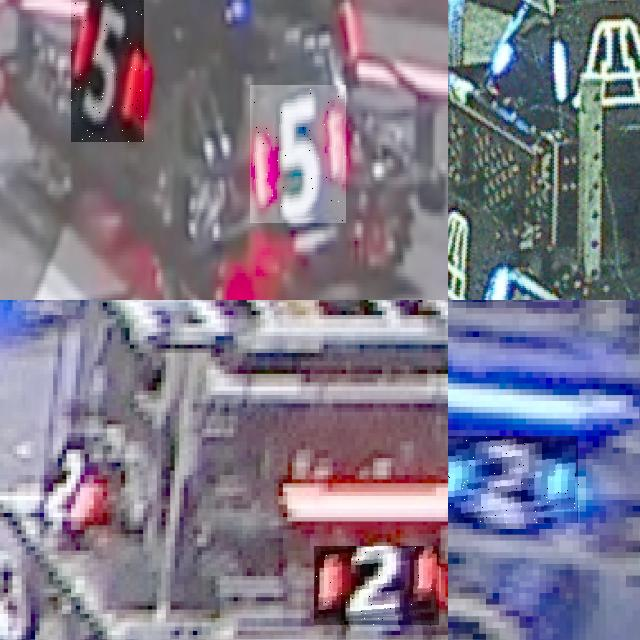B2: (448, 435, 579, 523)
R2: (314, 546, 440, 626)
R5: (250, 85, 346, 223), (70, 0, 144, 141)
